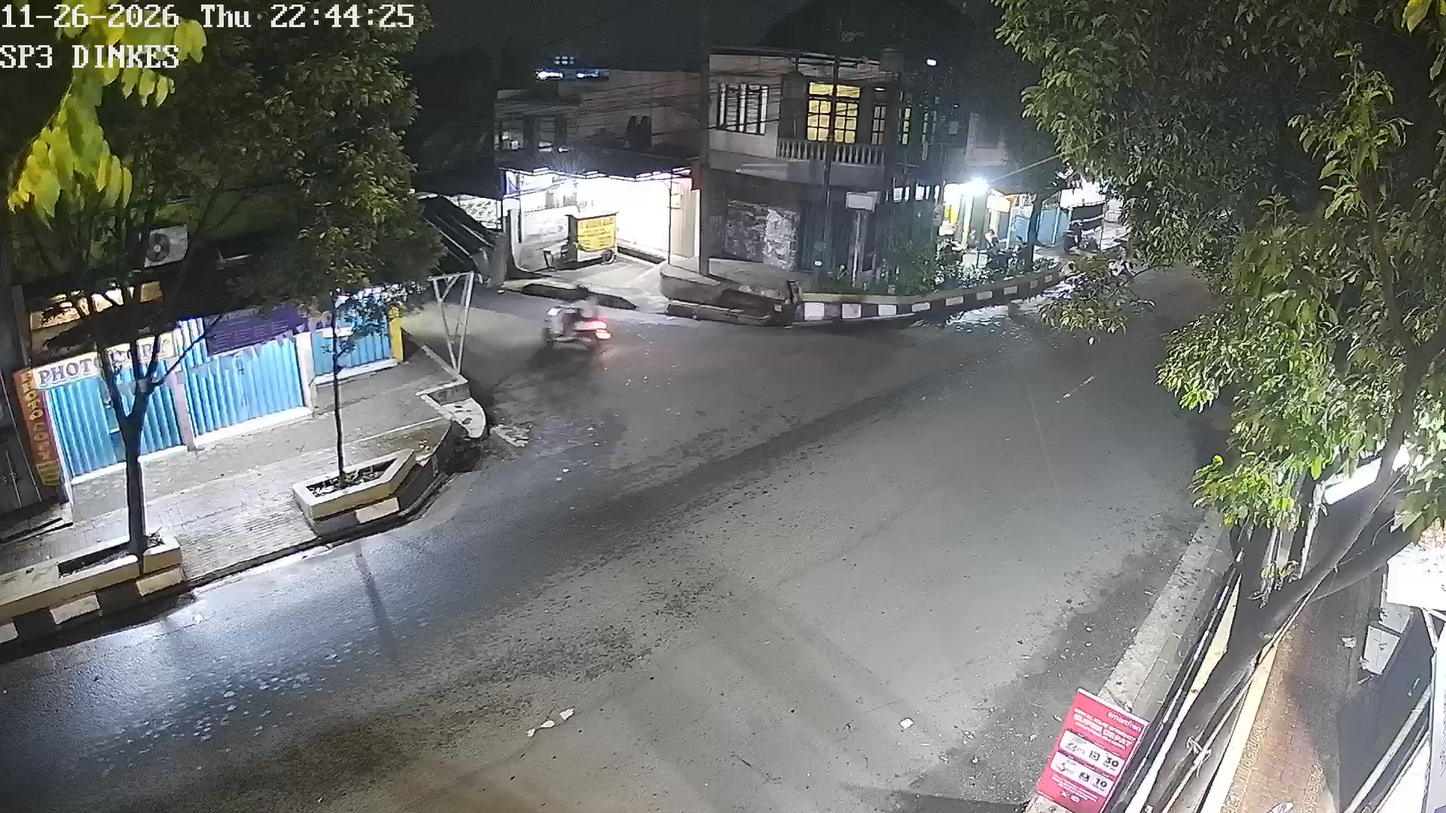Gerobak: (561, 210, 619, 269)
